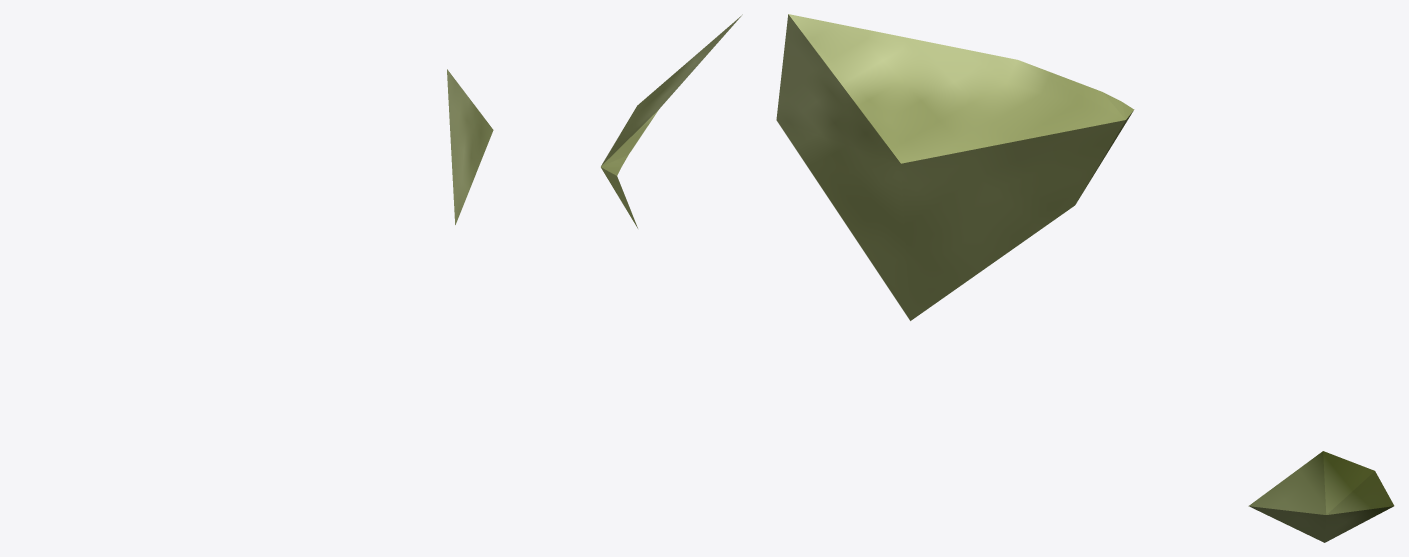
3 renders of one model, left to right at view 1: azimuth 30°, elevation 25°; view 2: azimuth 150°, elevation 25°; view 3: azimuth 270°, elevation 25°, orthographic. The views are drawn at different scales.
Size of the model in its own units: 0.0375 by 0.2124 by 0.2249.
Materials: 1 (1 with a texture image).
